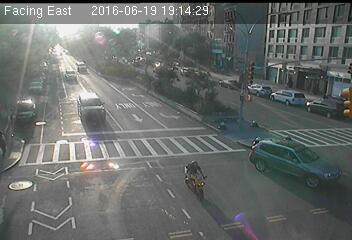neg: (168, 150, 210, 207), (237, 127, 269, 168)
